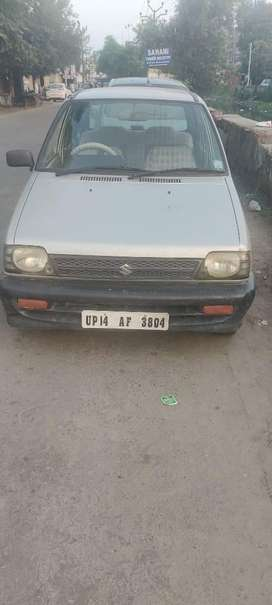UP14AF3804: (80, 309, 167, 329)
